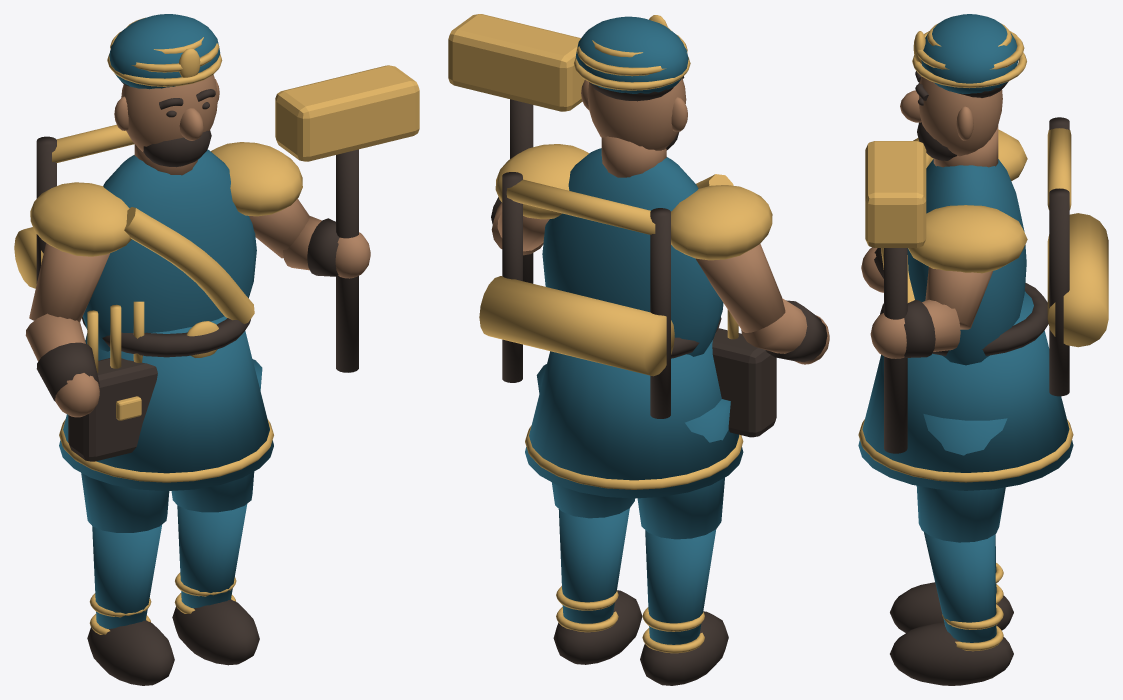
The model's file is engineer.glb.
The picture shows the model from 3 angles, left to right: view 1: azimuth 30°, elevation 25°; view 2: azimuth 150°, elevation 25°; view 3: azimuth 270°, elevation 25°; orthographic projection.
Visible parts, largest first — view 1: engineer; view 2: engineer; view 3: engineer.
Boxes of the visible parts, x1,y1,x2,y2 form: engineer: (14, 14, 419, 685); engineer: (448, 14, 829, 685); engineer: (858, 14, 1108, 685).
Size of the model in its own units: 0.8824 by 1.51 by 0.535.
